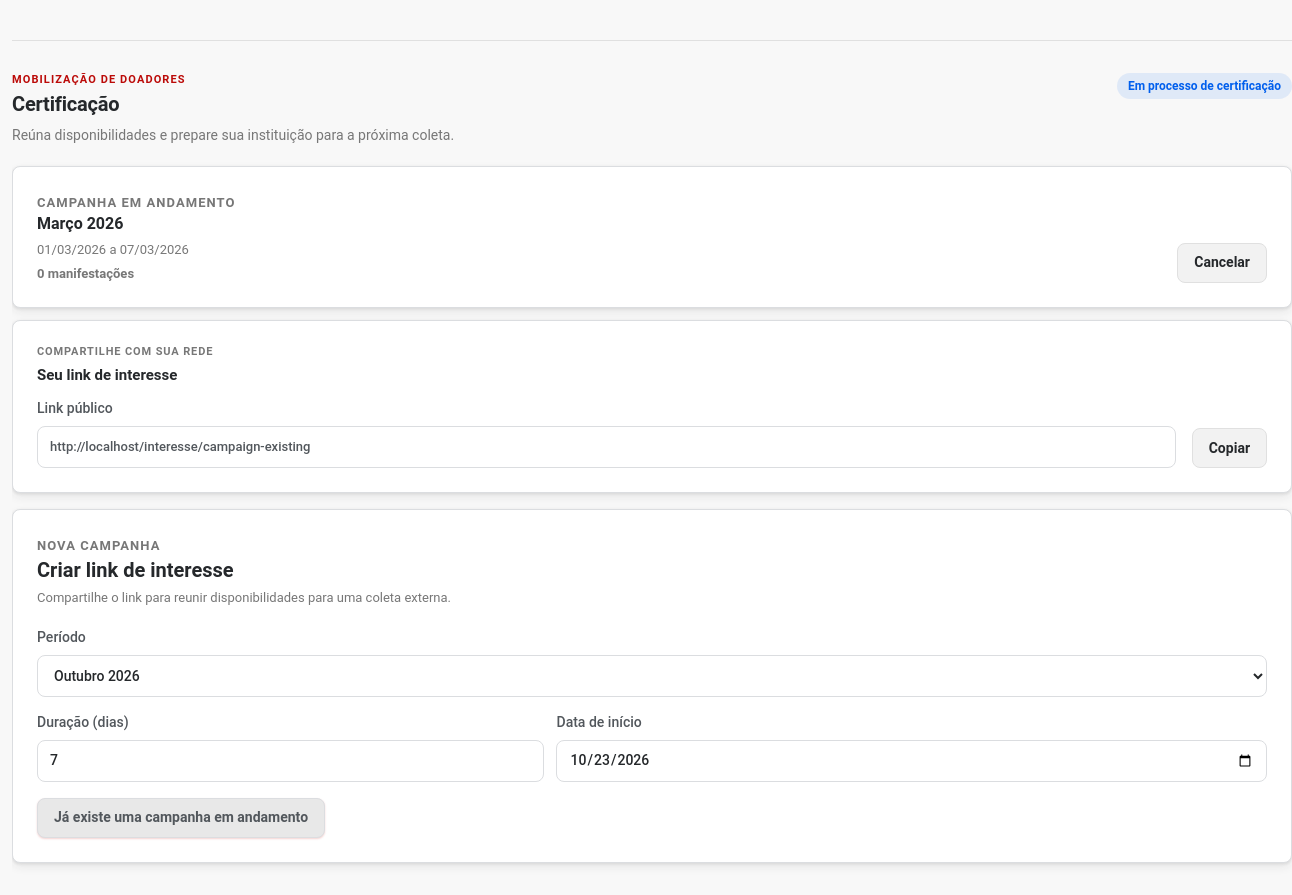
CertificationSection › derives and copies the public link from a campaign already active on load
What coordinates should you click on to do the following:
click the button "Copiar"
I would click on:
 (1229, 448)
Its box is left=1192, top=428, right=1267, bottom=468.
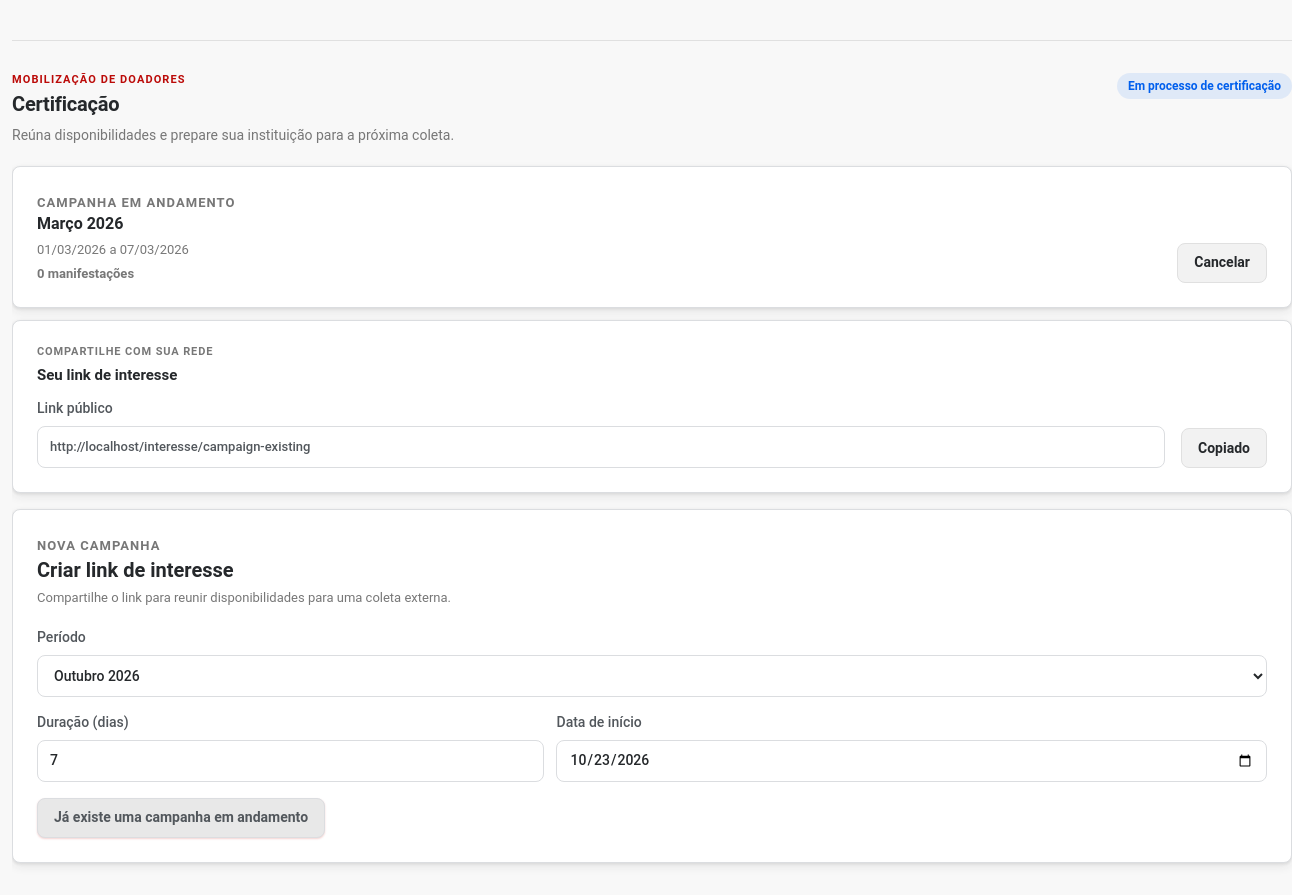
Expected: the button "Copiado" is shown, left=1181, top=428, right=1267, bottom=468
